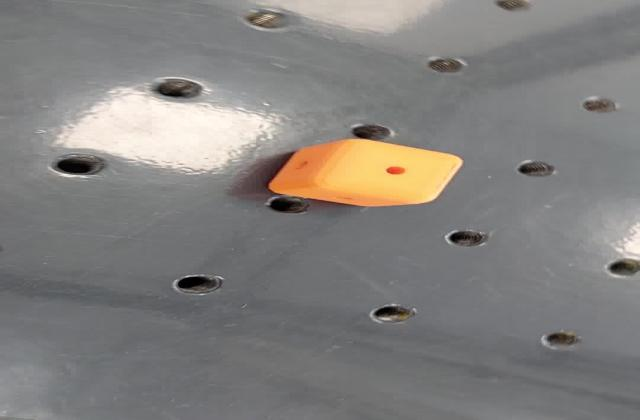cube: (264, 136, 468, 210)
